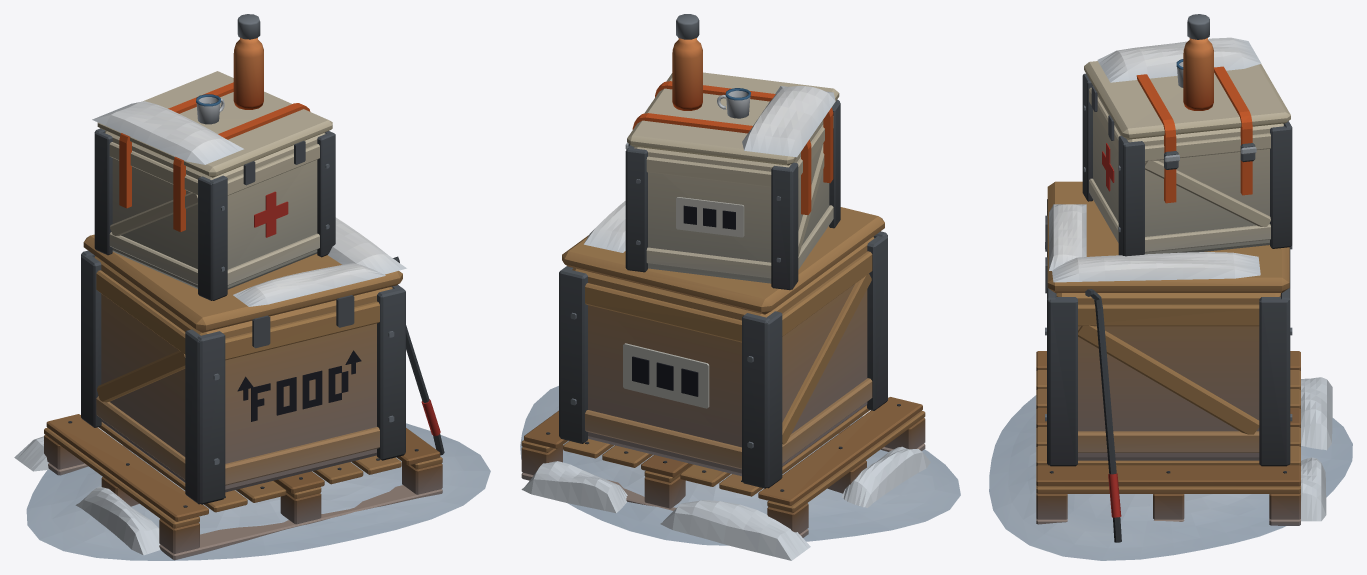
File: arctic-supply-crate.glb
3 renders of one model, left to right at view 1: azimuth 30°, elevation 25°; view 2: azimuth 150°, elevation 25°; view 3: azimuth 270°, elevation 25°, orthographic.
Parts seen in each view (by area): view 1: arctic_supply_crate; view 2: arctic_supply_crate; view 3: arctic_supply_crate.
Part boxes in pixels (<box>): arctic_supply_crate: <box>14,14,490,560</box>; arctic_supply_crate: <box>520,14,960,560</box>; arctic_supply_crate: <box>989,14,1352,560</box>.
Size of the model in its own units: 1.55 by 1.58 by 1.15.
